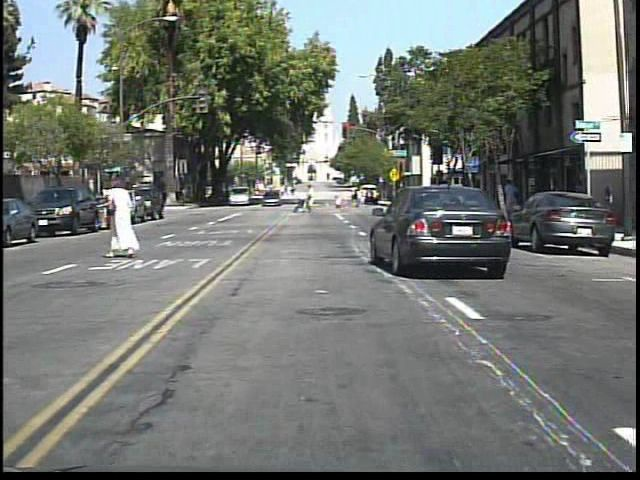person: (102, 173, 145, 265), (500, 173, 522, 224), (304, 183, 318, 215)
